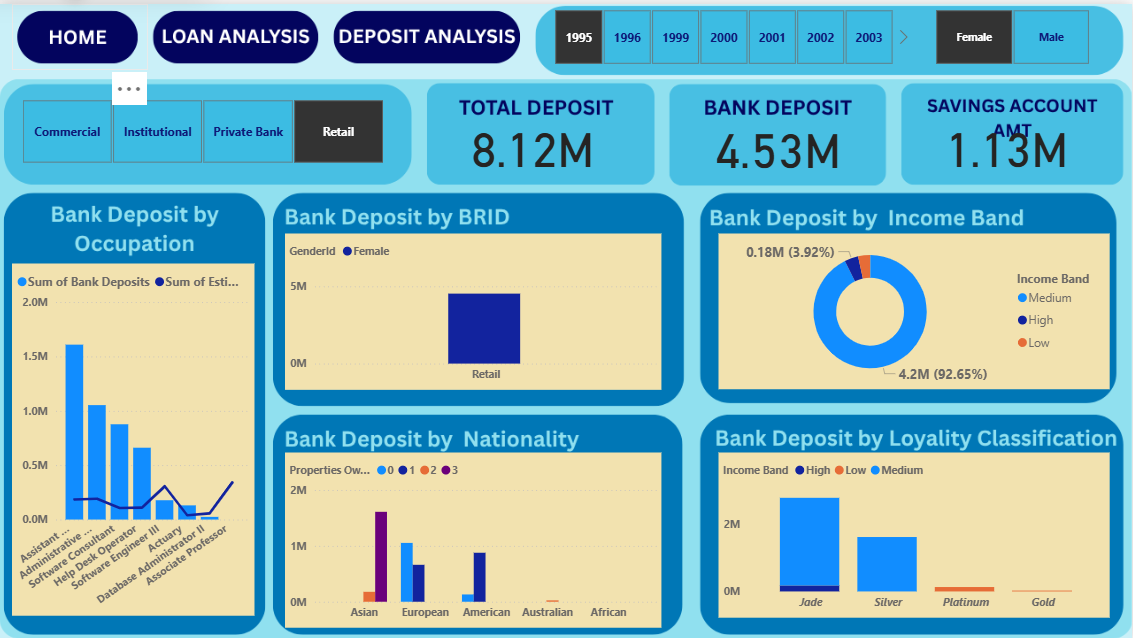

The page's visual inventory and layout, read from the dashboard file:
{"tool":"powerbi","page":{"name":"Deposit Analysis","canvas":[1280,720],"ordinal":2},"visuals":[{"type":"card","fields":{"Values":["Banking.Total Deposit"]},"box":[485,100,233.3,116.7],"z":0},{"type":"card","fields":{"Values":["Sum(Banking.Bank Deposits)"]},"box":[763.3,101.7,231.7,115],"z":1000},{"type":"card","fields":{"Values":["Sum(Banking.Saving Accounts)"]},"box":[1020,100,233.3,115],"z":2000},{"type":"slicer","fields":{"Values":["Banking.BRId"]},"box":[0,101.8,456.5,84.3],"z":3000},{"type":"slicer","fields":{"Values":["Banking.GenderId"]},"box":[1032.2,0,222,74.6],"z":4000},{"type":"donutChart","fields":{"Category":["Banking.Income Band"],"Y":["Sum(Banking.Bank Deposits)"]},"box":[812,260,442,176],"z":5000},{"type":"clusteredColumnChart","fields":{"Y":["Sum(Banking.Bank Deposits)"],"Category":["Banking.BRId"],"Series":["Banking.GenderId"]},"box":[321.7,260,425,176.7],"z":6000},{"type":"clusteredColumnChart","fields":{"Category":["Banking.Nationality"],"Series":["Banking.Properties Owned"],"Y":["Sum(Banking.Bank Deposits)"]},"box":[322,506.8,425.4,198.3],"z":7000},{"type":"lineStackedColumnComboChart","fields":{"Category":["Banking.Occupation"],"Y":["Sum(Banking.Bank Deposits)"],"Y2":["Sum(Banking.Estimated Income)"]},"box":[14,294,274,398],"z":8000},{"type":"slicer","fields":{"Values":["Banking.Year of Joining"]},"box":[601.7,0,430.5,74.6],"z":9000},{"type":"columnChart","fields":{"Category":["Banking.Loyalty Classification"],"Series":["Banking.Income Band"],"Y":["Sum(Banking.Bank Deposits)"]},"box":[811.7,506.7,441.7,186.7],"z":10000},{"type":"actionButton","box":[12.7,0,155.9,74.8],"z":11000},{"type":"actionButton","box":[168.6,0,198.8,74.8],"z":12000}]}

Visuals, with their boxes in screenshot pixels (x1, y1, x2, y2), scaled from the page's 1280x720 canvas onto the 1133x638 screenshot:
card - Banking.Total Deposit: pyautogui.locateOnScreen(429, 89, 636, 192)
card - Sum(Banking.Bank Deposits): pyautogui.locateOnScreen(676, 90, 881, 192)
card - Sum(Banking.Saving Accounts): pyautogui.locateOnScreen(903, 89, 1109, 191)
slicer - Banking.BRId: pyautogui.locateOnScreen(0, 90, 404, 165)
slicer - Banking.GenderId: pyautogui.locateOnScreen(914, 0, 1110, 66)
donutChart - Banking.Income Band x Sum(Banking.Bank Deposits): pyautogui.locateOnScreen(719, 230, 1110, 386)
clusteredColumnChart - Sum(Banking.Bank Deposits) x Banking.BRId: pyautogui.locateOnScreen(285, 230, 661, 387)
clusteredColumnChart - Banking.Nationality x Banking.Properties Owned: pyautogui.locateOnScreen(285, 449, 662, 625)
lineStackedColumnComboChart - Banking.Occupation x Sum(Banking.Bank Deposits): pyautogui.locateOnScreen(12, 261, 255, 613)
slicer - Banking.Year of Joining: pyautogui.locateOnScreen(533, 0, 914, 66)
columnChart - Banking.Loyalty Classification x Banking.Income Band: pyautogui.locateOnScreen(718, 449, 1109, 614)
actionButton: pyautogui.locateOnScreen(11, 0, 149, 66)
actionButton: pyautogui.locateOnScreen(149, 0, 325, 66)
